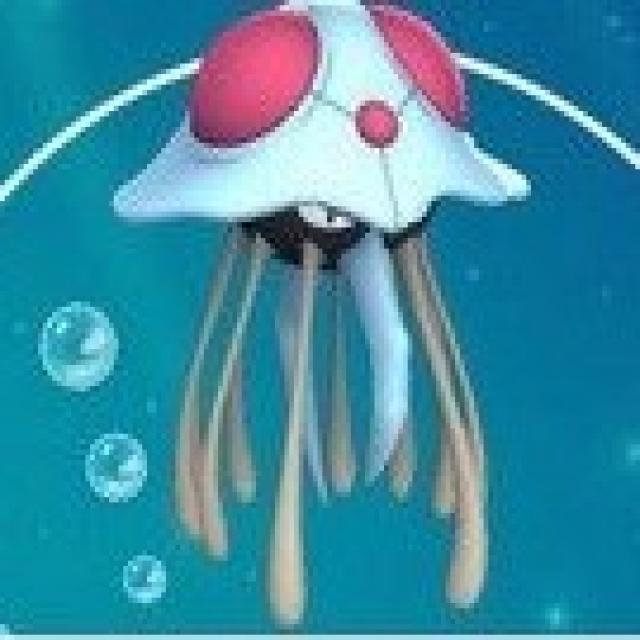Tentacruel: (164, 0, 496, 519)
